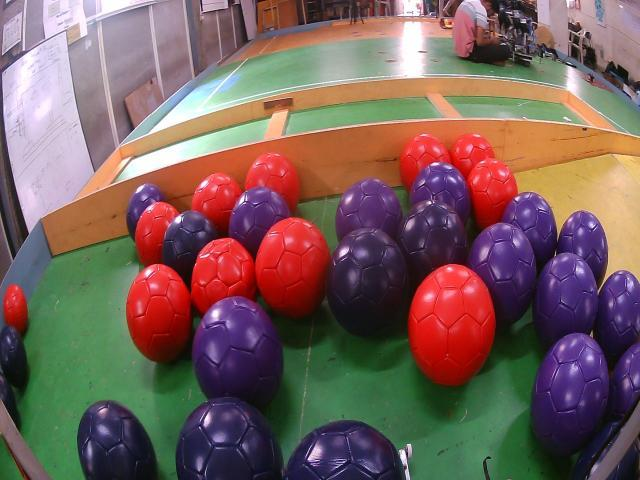jambhalya: (192, 297, 284, 408), (530, 333, 609, 457), (466, 223, 536, 327), (532, 253, 598, 348), (229, 187, 291, 260), (502, 192, 558, 272), (594, 270, 640, 367), (335, 178, 402, 240), (556, 210, 609, 288), (410, 162, 471, 225), (605, 343, 640, 422), (126, 183, 166, 240)
kaalyya: (326, 227, 409, 337), (175, 397, 285, 480), (285, 420, 405, 480), (78, 400, 158, 480), (396, 200, 468, 287), (162, 210, 218, 287), (0, 325, 28, 387)
